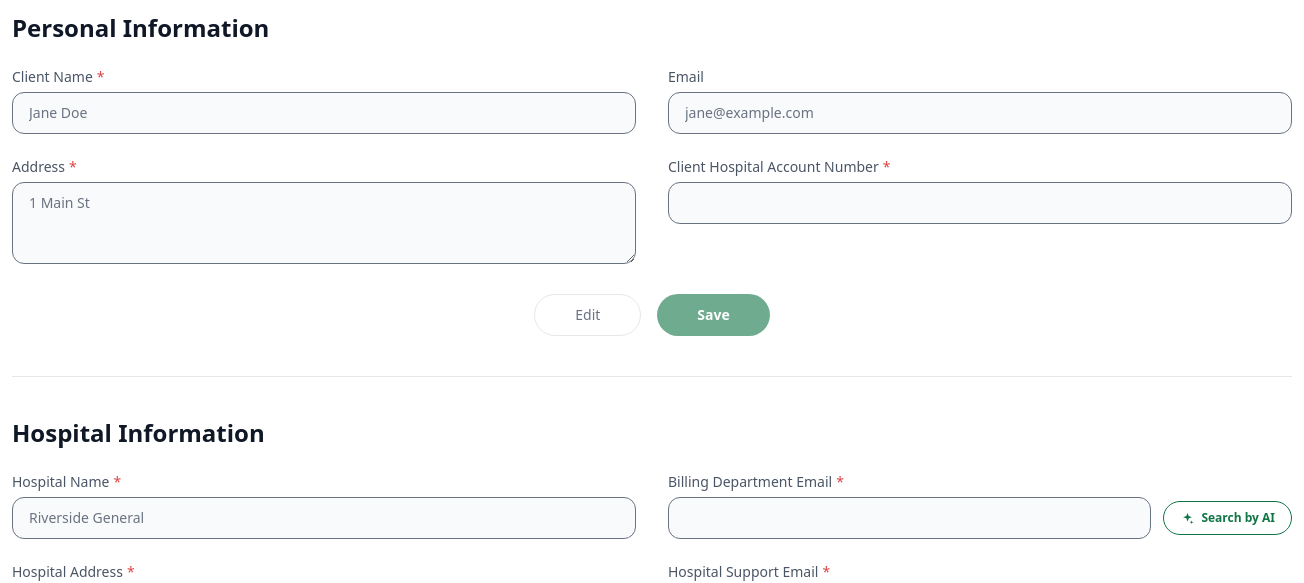
Test: CaseInformationStep › looks the address up when Search by AI is pressed, not from the bill
Expected: the field labelled "Hospital Name*" holds "Riverside General", x1=12 y1=497 x2=636 y2=539
Click the 1st button "Search by AI" at (1228, 518), box x1=1163 y1=501 x2=1292 y2=535
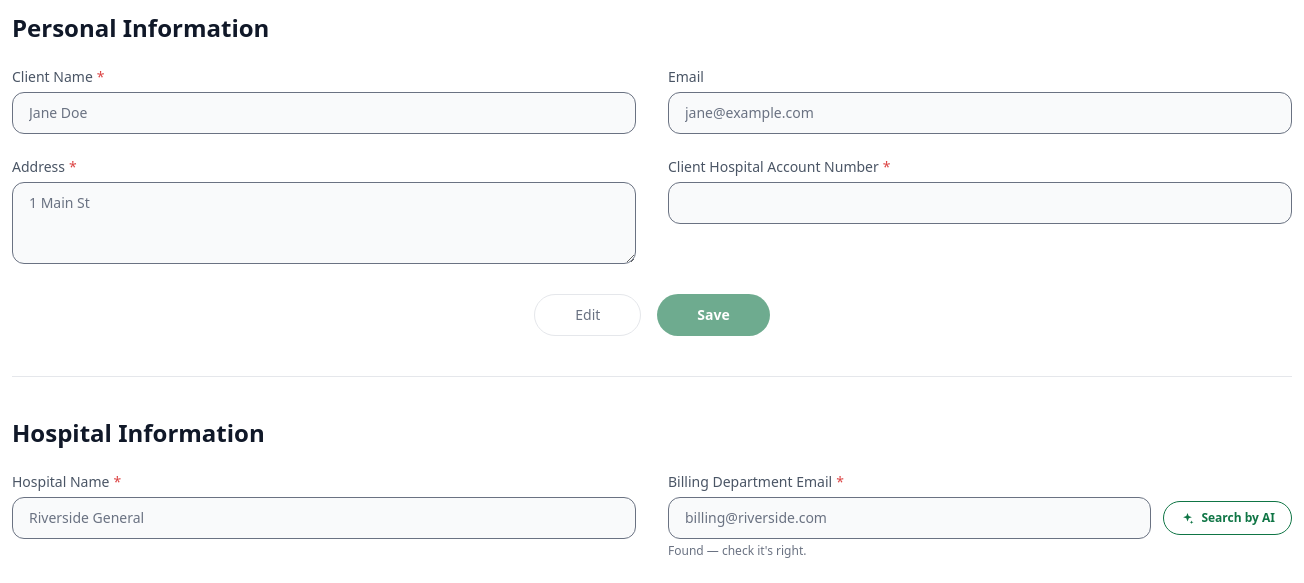
Now the field labelled "Billing Department Email*" holds "billing@riverside.com", box x1=668 y1=497 x2=1151 y2=539
Now the text "Found — check it's right." is shown, box x1=668 y1=542 x2=806 y2=559
